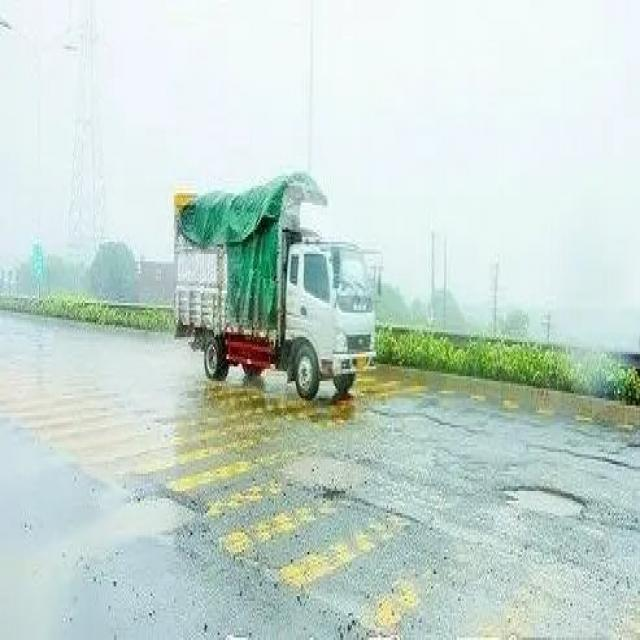pothole: (505, 476, 586, 523)
